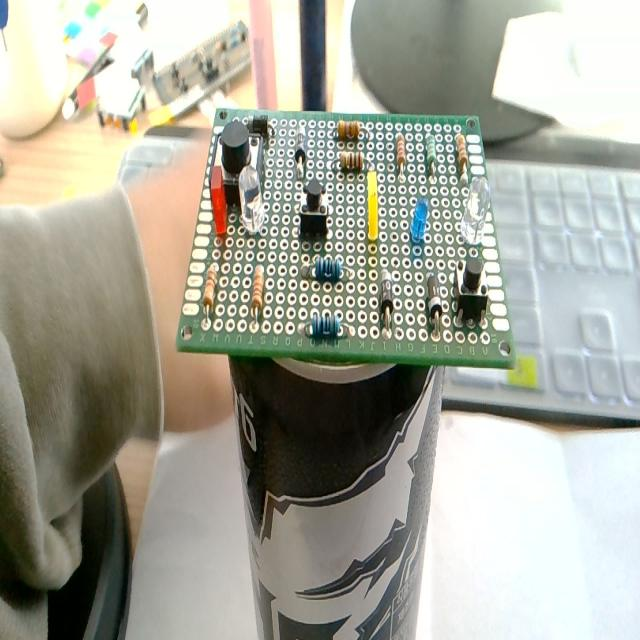diode: (427, 272, 444, 341), (380, 268, 394, 334), (246, 110, 276, 140), (294, 122, 307, 177)
led: (361, 168, 386, 247), (238, 164, 264, 235), (210, 167, 227, 234), (410, 196, 429, 243)
resistor: (461, 174, 492, 246), (202, 260, 219, 324), (314, 254, 344, 282), (310, 311, 341, 337), (251, 266, 264, 314), (340, 150, 364, 173), (456, 133, 468, 178), (425, 134, 436, 179), (338, 119, 360, 141), (396, 135, 406, 175)
switch: (212, 118, 268, 216), (454, 256, 488, 325), (298, 179, 330, 239)
